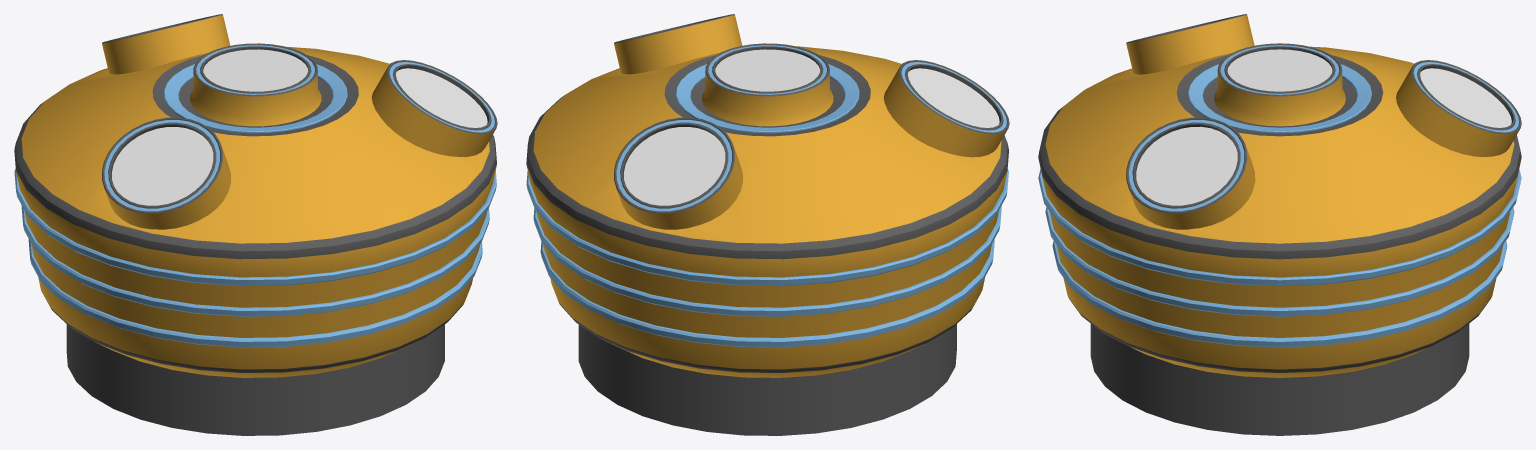
File: interactible_combiner.glb
3 views of the same model, side by side, from view 1: azimuth 30°, elevation 25°; view 2: azimuth 150°, elevation 25°; view 3: azimuth 270°, elevation 25° (orthographic).
Parts seen in each view (by area): view 1: Base, Compartment.001, Compartment.002, Compartment; view 2: Base, Compartment, Compartment.001, Compartment.002; view 3: Base, Compartment.002, Compartment, Compartment.001.
Boxes of the visible parts, x1,y1,x2,y2 form: Base: (14,43,496,435); Compartment.001: (102,117,230,229); Compartment.002: (371,60,497,156); Compartment: (102,14,230,74); Base: (526,43,1008,435); Compartment: (614,117,742,229); Compartment.001: (883,60,1009,157); Compartment.002: (614,14,742,74); Base: (1038,43,1521,435); Compartment.002: (1126,117,1255,229); Compartment: (1396,60,1521,157); Compartment.001: (1126,14,1254,74).
Size of the model in its own units: 2.06 by 1.34 by 2.06.
